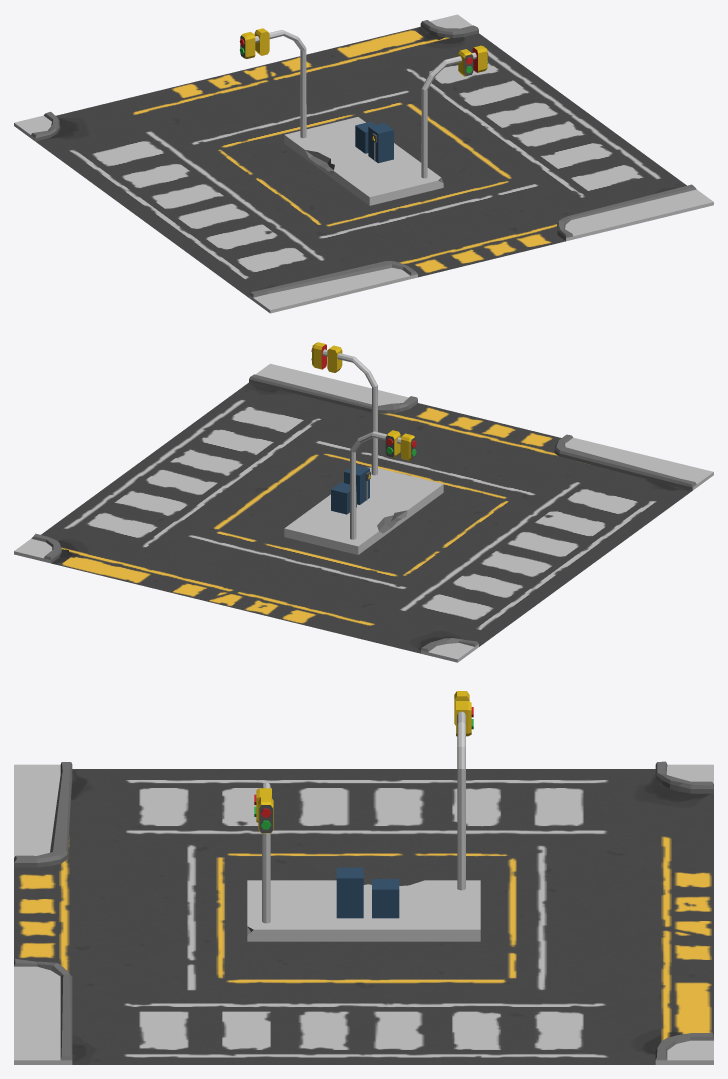
Rendered from Crossway_To_Road_S_03.fbx.
3 views of the same model, one above another, from view 1: azimuth 30°, elevation 25°; view 2: azimuth 150°, elevation 25°; view 3: azimuth 270°, elevation 25° (orthographic). The views are drawn at different scales.
Parts seen in each view (by area): view 1: Crossway_To_Road_S_03; view 2: Crossway_To_Road_S_03; view 3: Crossway_To_Road_S_03.
Boxes of the visible parts, x1,y1,x2,y2 form: Crossway_To_Road_S_03: [14, 14, 713, 313]; Crossway_To_Road_S_03: [14, 342, 713, 662]; Crossway_To_Road_S_03: [14, 691, 713, 1064].
Bounding box in the file's own units: 2400 × 653 × 2400.
